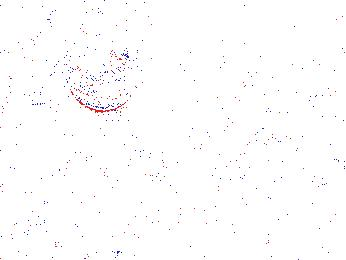moon jellyfish: (221, 2, 346, 96), (20, 24, 88, 107), (68, 52, 139, 112)
